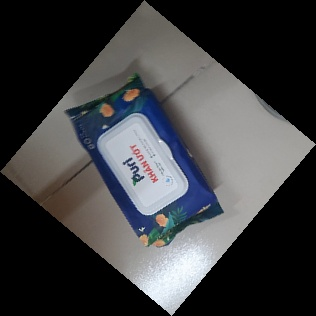Puri Xanh: (61, 73, 223, 253)
